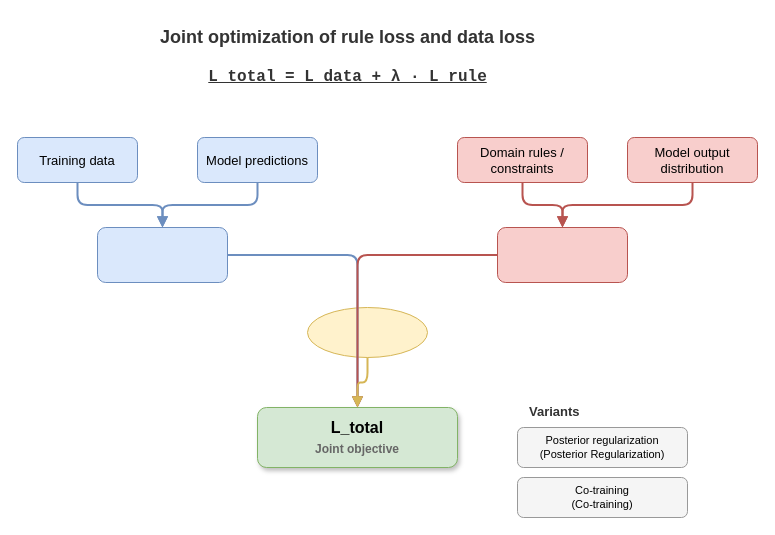
Image size: 775x535. Some labels were removed from this diagram. The shapes that lost their labels are listed below. From the top down, each one's centre as x and y in pixels, then its label:
At pixel 162 254: "L_data Data loss".
At pixel 562 254: "L_rule Rule loss".
At pixel 367 332: "λ (balance coefficient)".
